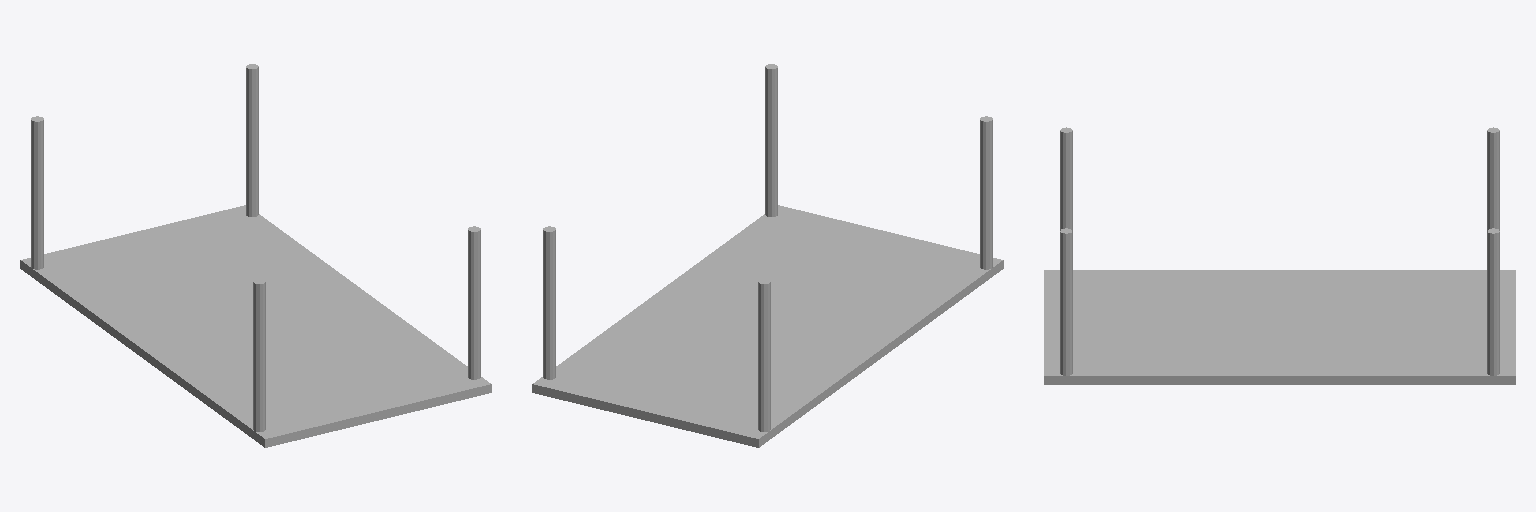
The robot description file, URDF, robot "NEWtable.SLDPRT":
<?xml version="1.0" encoding="utf-8"?>
<!-- This URDF was automatically created by SolidWorks to URDF Exporter! Originally created by [author] ([email redacted]) 
     Commit Version: 1.5.1-0-g916b5db  Build Version: 1.5.7152.31018
     For more information, please see http://wiki.ros.org/sw_urdf_exporter -->
<robot
  name="NEWtable.SLDPRT">
  <link
    name="NEWtable.SLDPRT">
    <inertial>
      <origin
        xyz="0.4 0.75 0.032293"
        rpy="0 0 0" />
      <mass
        value="38.513" />
      <inertia
        ixx="8.1324"
        ixy="4.4832E-15"
        ixz="1.74210000000003E-17"
        iyy="2.5032"
        iyz="5.27105587934239E-16"
        izz="10.196" />
    </inertial>
    <visual>
      <origin
        xyz="0 0 0"
        rpy="1.5707963267949 0 0" />
      <geometry>
        <mesh
          filename="package://NEWtable.SLDPRT/meshes/NEWtable.SLDPRT.STL" />
      </geometry>
      <material
        name="">
        <color
          rgba="0.74902 0.74902 0.74902 1" />
        <texture
          filename="package://NEWtable.SLDPRT/textures/" />
      </material>
    </visual>
    <collision>
      <origin
        xyz="0 0 0"
        rpy="1.5707963267949 0 0" />
      <geometry>
        <mesh
          filename="package://NEWtable.SLDPRT/meshes/NEWtable.SLDPRT.STL" />
      </geometry>
    </collision>
  </link>
</robot>

--- Facts derived from the render (not from the file) ---
The picture shows the robot from 3 angles, left to right: view 1: azimuth 30°, elevation 25°; view 2: azimuth 150°, elevation 25°; view 3: azimuth 270°, elevation 25°; orthographic projection.
Model NEWtable.SLDPRT with 1 links and 0 joints (none), rooted at NEWtable.SLDPRT, posed all joints at 0.
Visible links, largest first — view 1: NEWtable.SLDPRT; view 2: NEWtable.SLDPRT; view 3: NEWtable.SLDPRT.
Boxes of the visible links, x1,y1,x2,y2 form: NEWtable.SLDPRT: (20,64,491,447); NEWtable.SLDPRT: (532,64,1003,447); NEWtable.SLDPRT: (1044,127,1515,384).
Bounding box of the posed robot: 0.8 × 1.5 × 0.53 m (x, y, z).
1 mesh visuals loaded from 1 distinct referenced files (1 binary STL).
